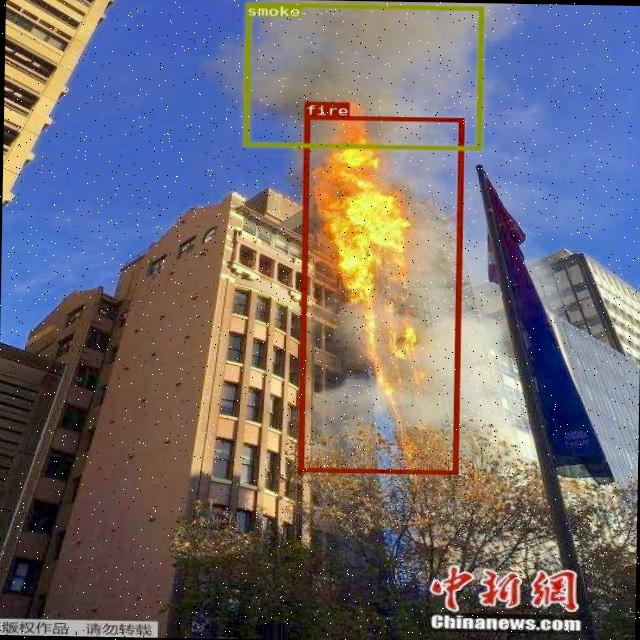fire: (298, 114, 462, 473)
smoke: (242, 1, 482, 150)
